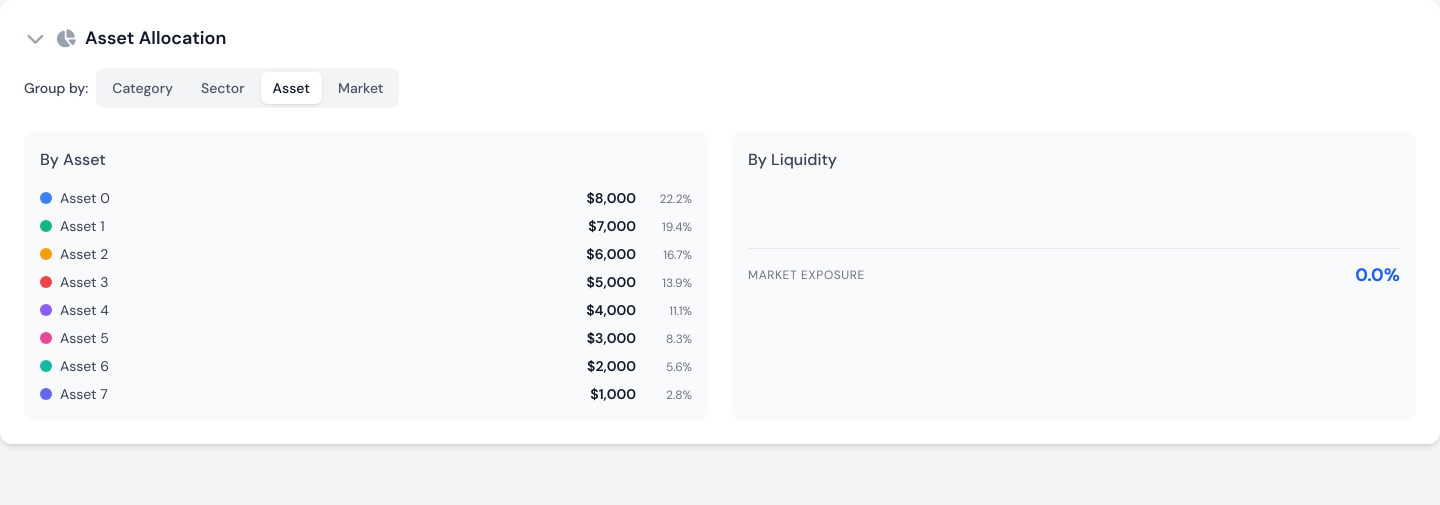
Test: AssetAllocationCharts — non-asset groupings keep the pie › renders a pie for a short non-asset grouping (≤10 slices)
# All holdings share one market → grouping by Market yields a single slice.
Click the button "Market" at (361, 88), box x1=326 y1=72 x2=395 y2=104
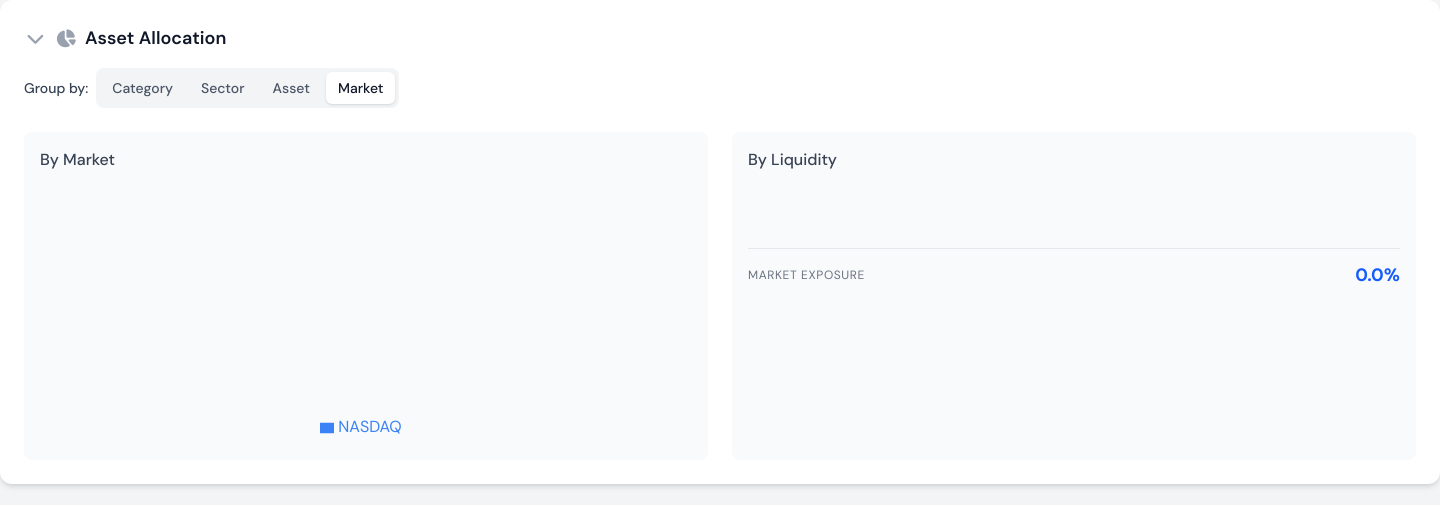
Check: the element with class "recharts-responsive-container" is shown, box x1=40 y1=188 x2=692 y2=444
Check: the text "Asset 0" is gone
